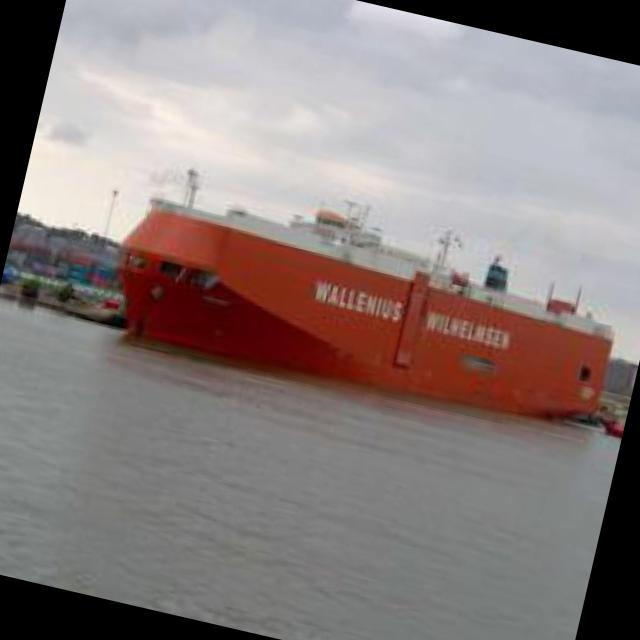boat: (96, 155, 640, 443)
